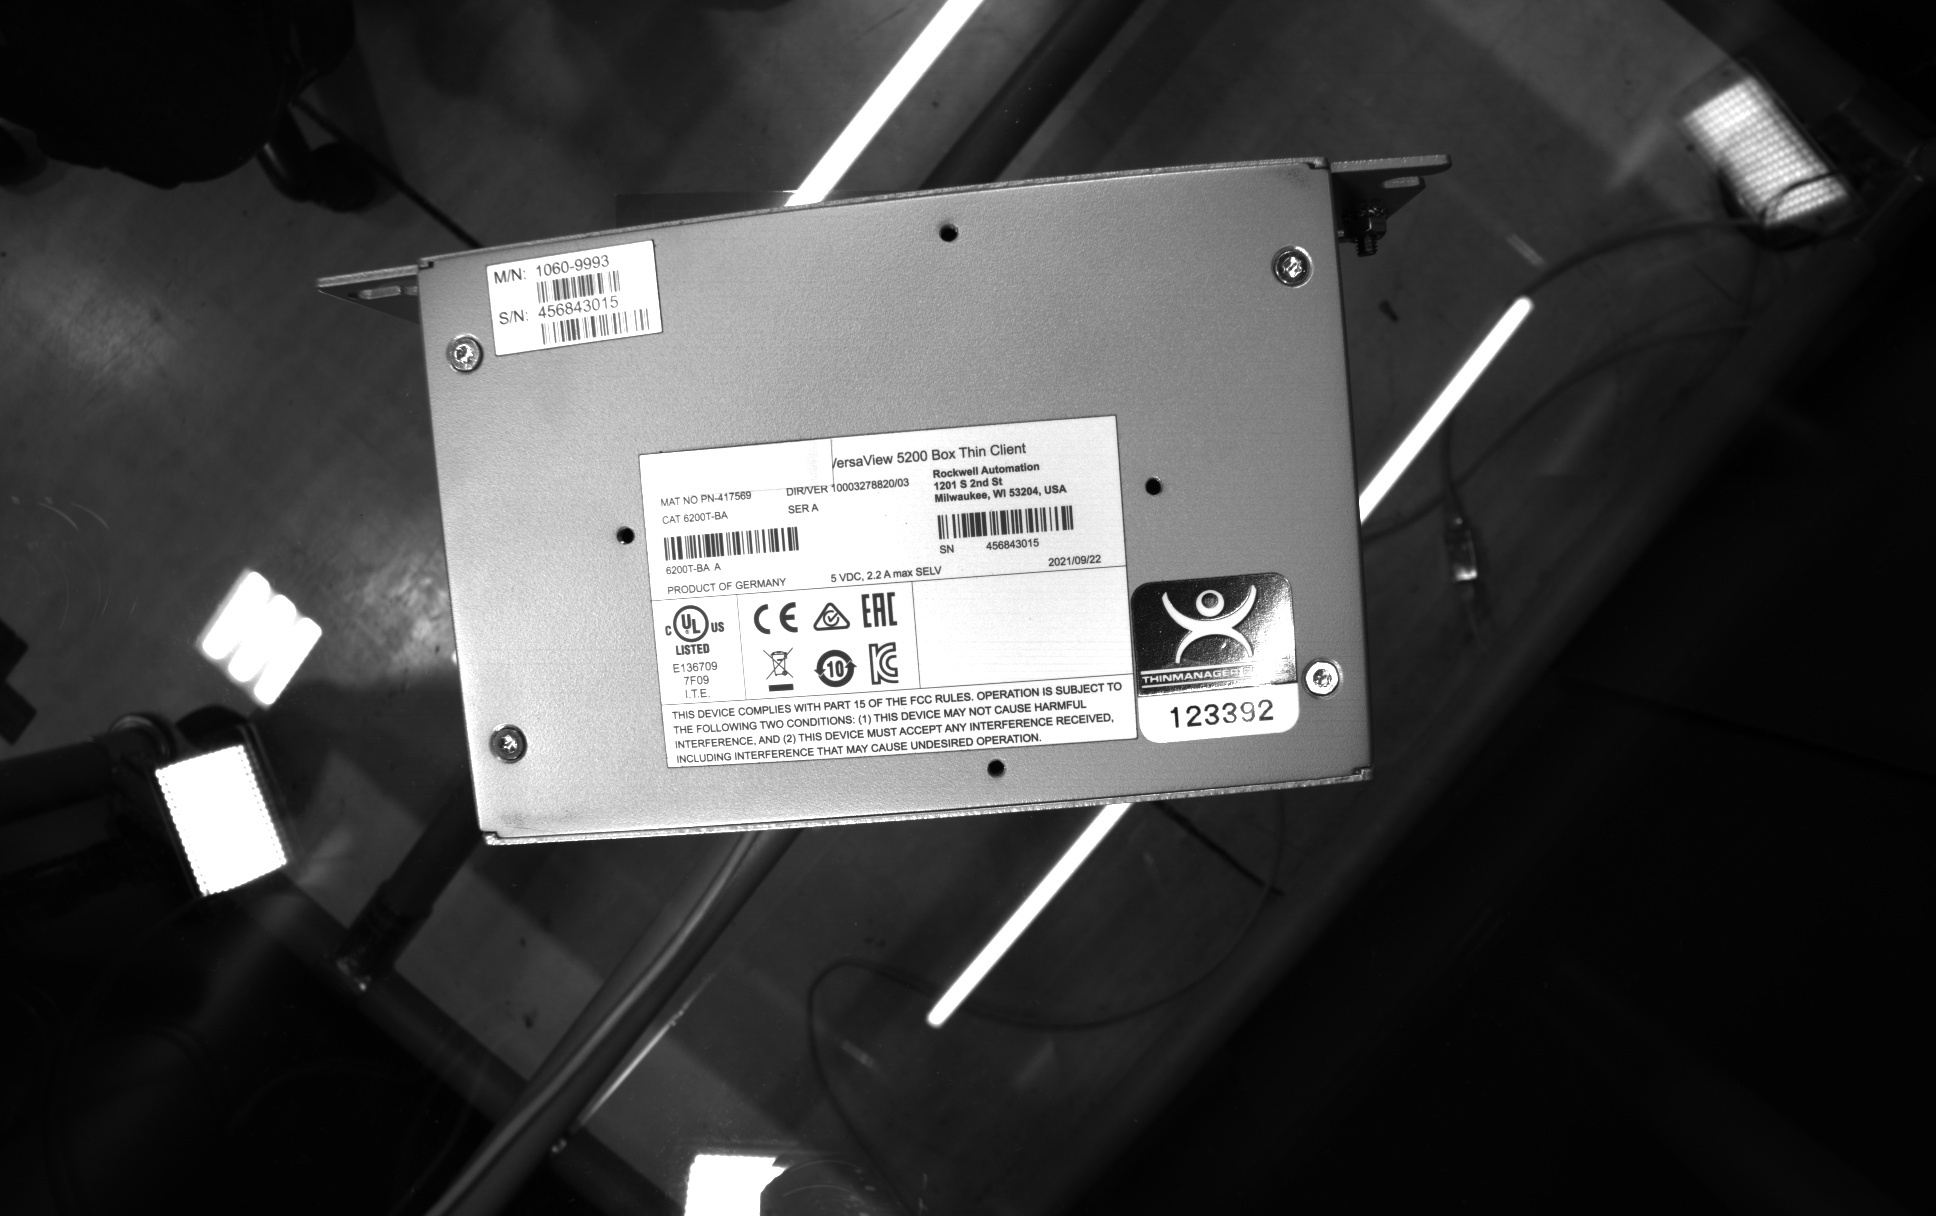Barcode: (927, 499, 1080, 546), (658, 521, 810, 565), (534, 304, 658, 349), (532, 266, 625, 304)
CamTop: (401, 141, 1390, 864)
Label_Seriennummer: (626, 405, 1152, 778)
Loch_Montage: (605, 513, 644, 558), (972, 754, 1016, 792), (1131, 465, 1170, 506), (927, 213, 967, 251)
Schraube: (1264, 240, 1321, 291), (1297, 649, 1348, 705), (485, 719, 535, 773), (440, 328, 490, 380)
